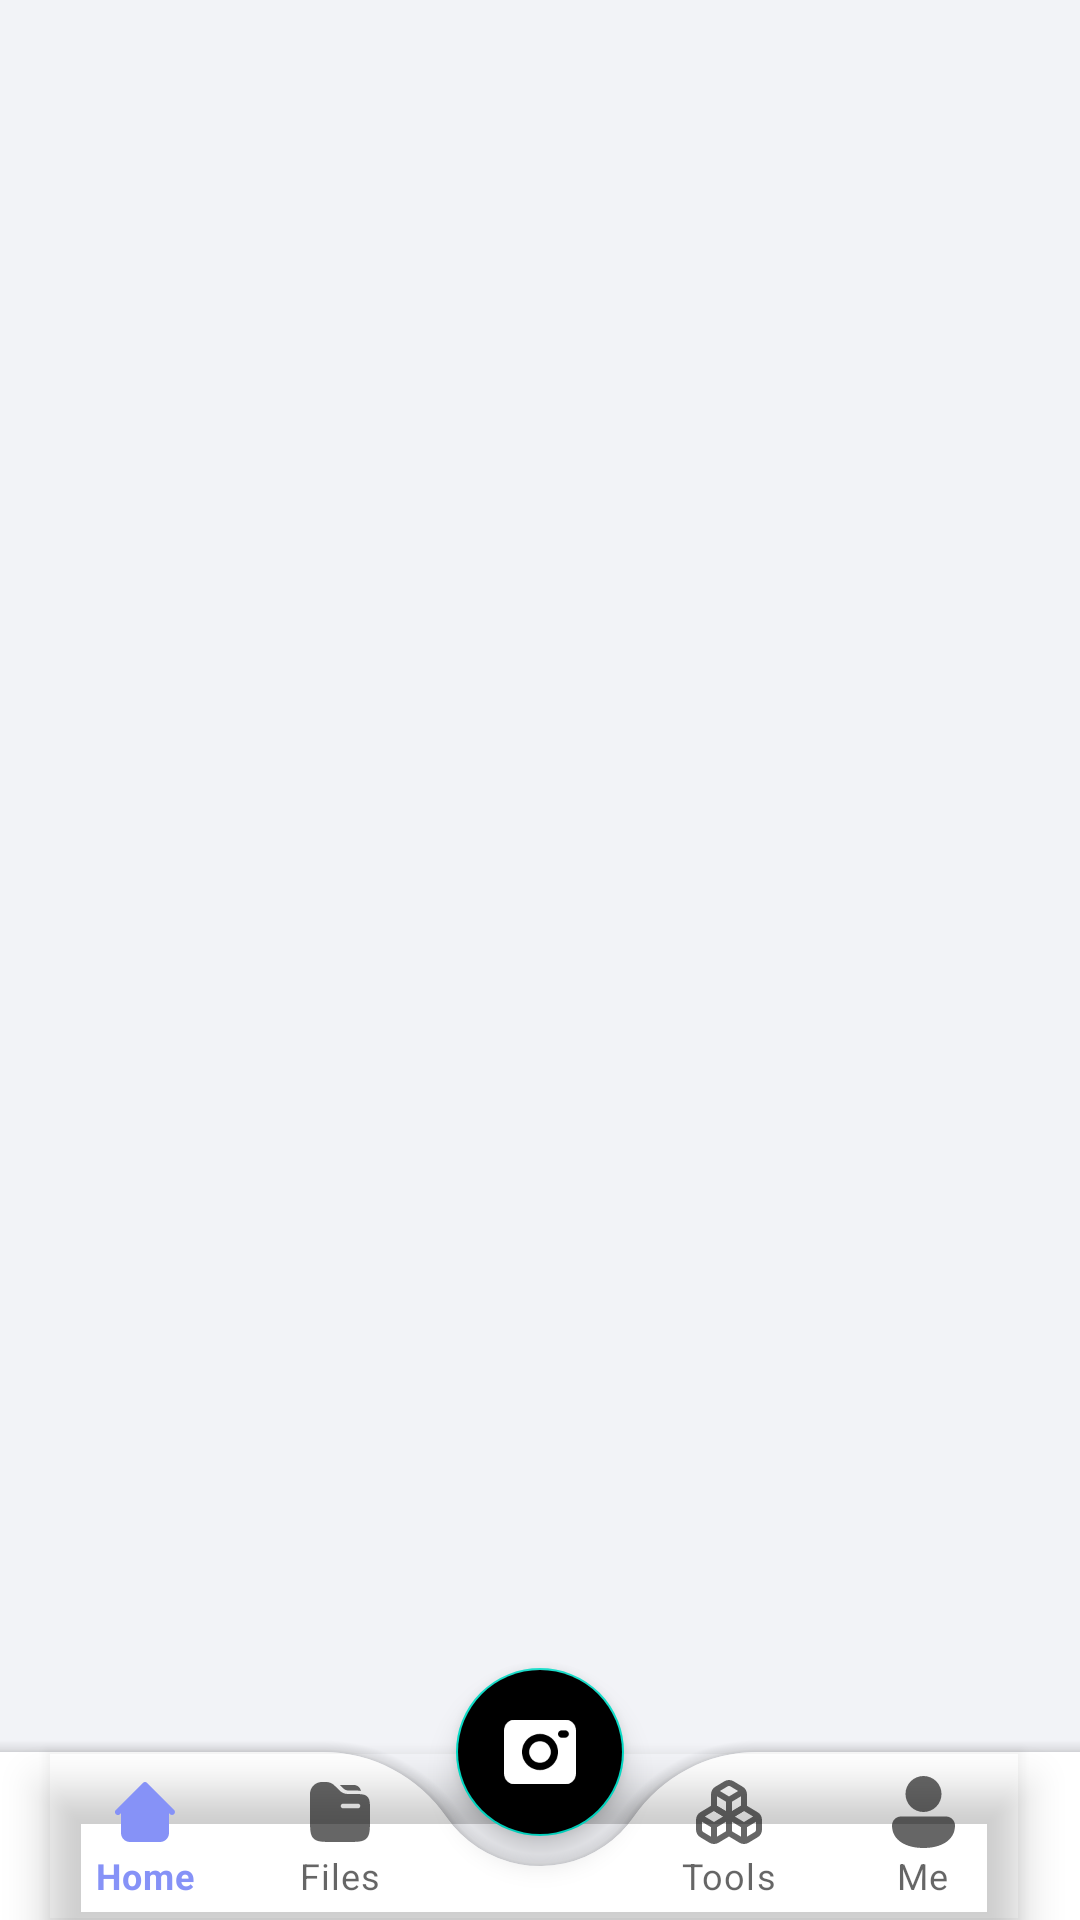

Icon click points for this 1080x1920 phone screenshot, format (x,y):
camera: (540,1752)
